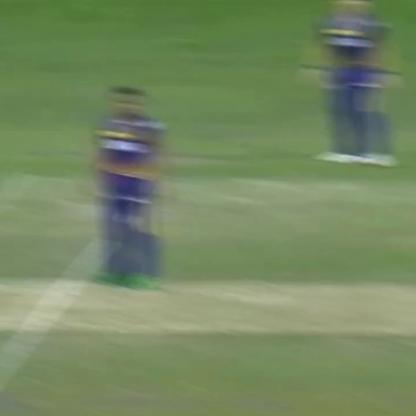pitch: (6, 265, 416, 369)
